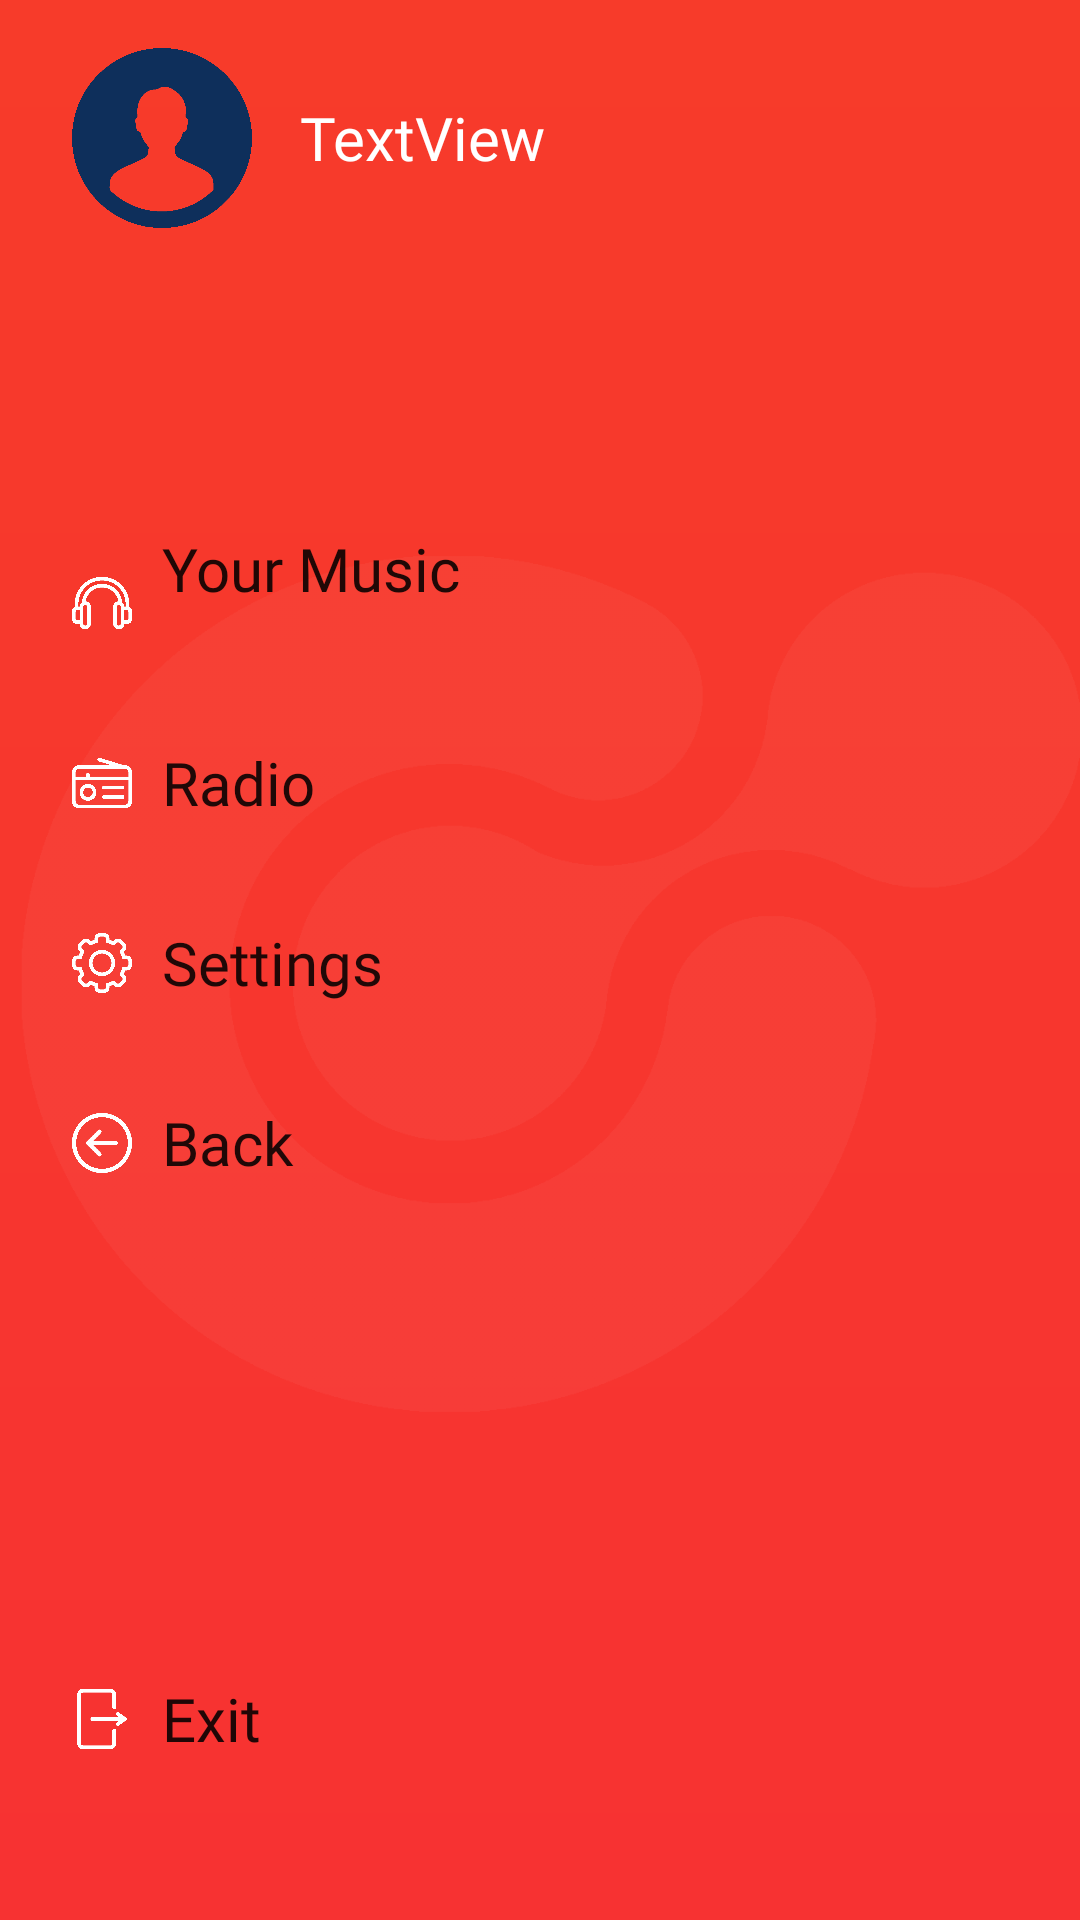

Screen size 1080 x 1920. Icon name, then its box in pixels as (x1, y1, x2, y2):
headphones: (72, 577, 132, 629)
singout: (77, 1689, 127, 1749)
